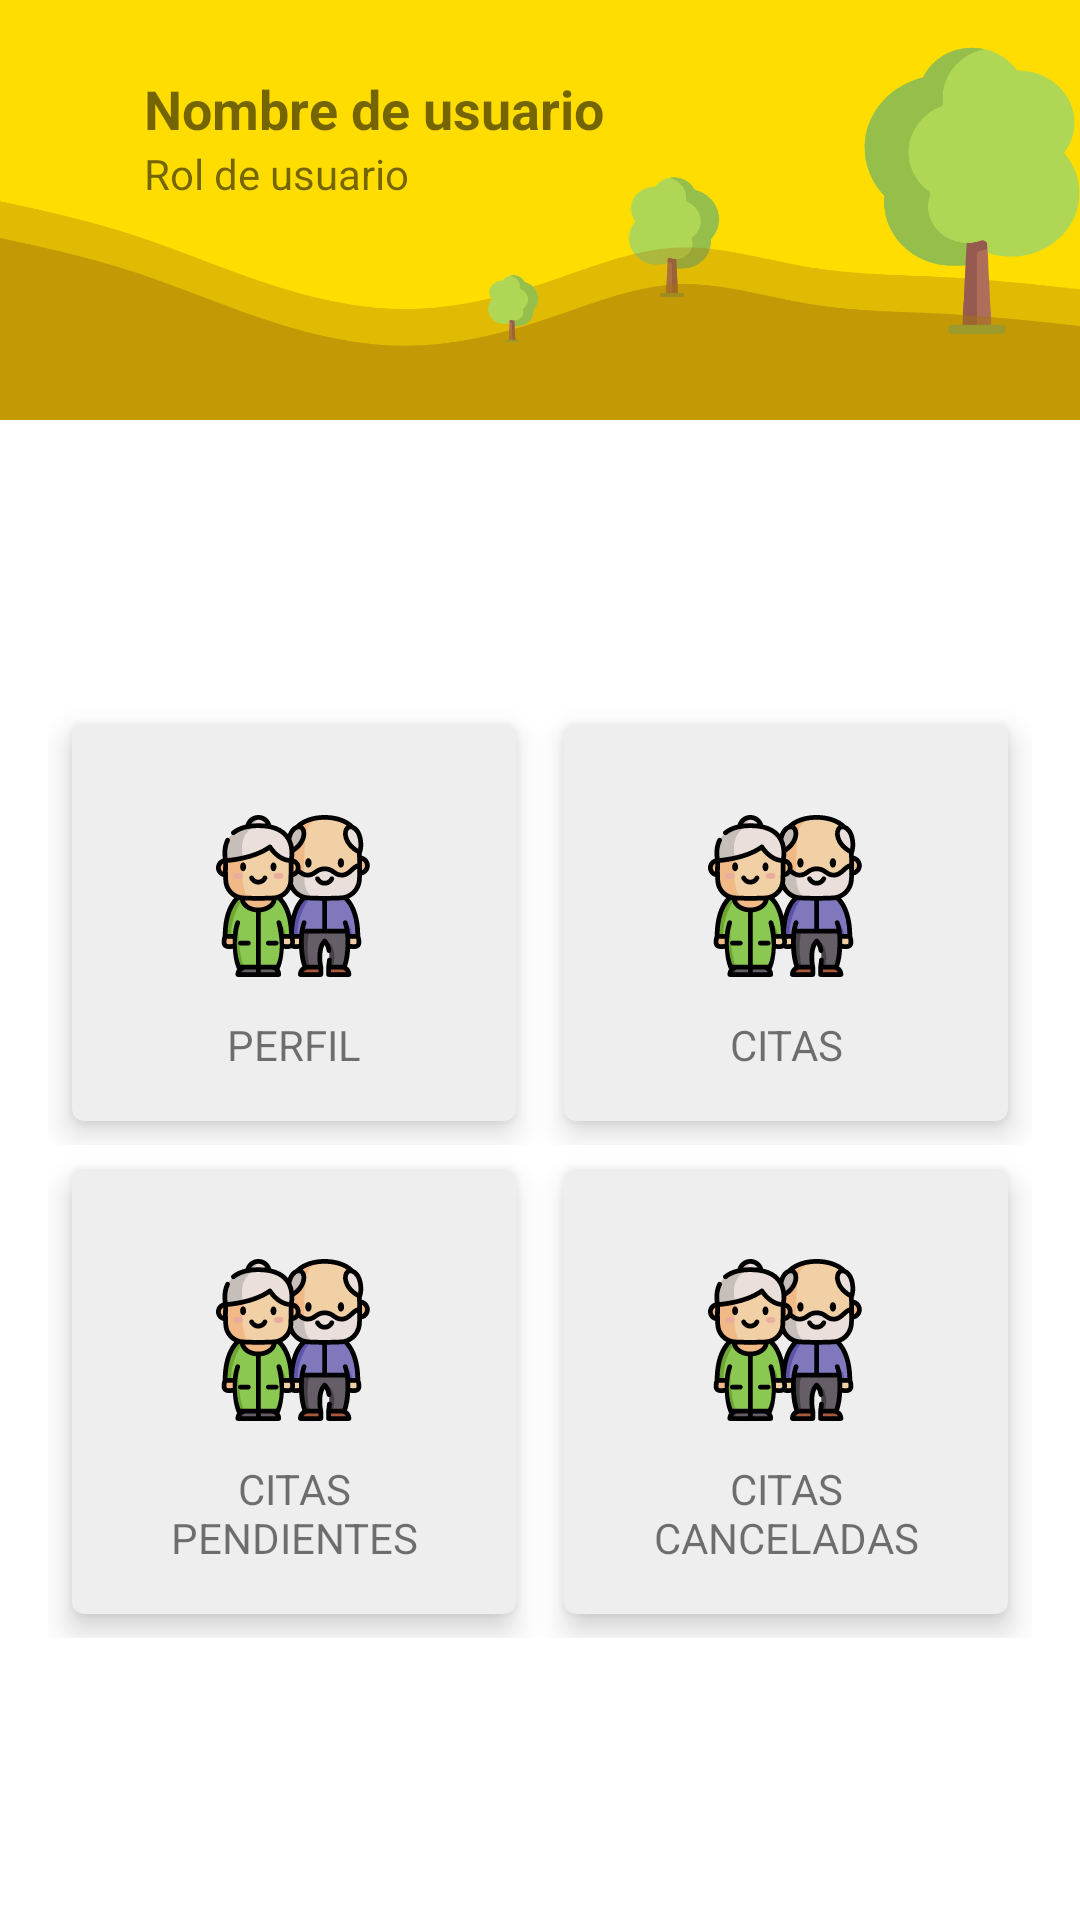

Screen size 1080px x 1920px. Icon name, then its center in pixels as (x=x, y=y):
granparents: (x=293, y=896), (x=785, y=896), (x=293, y=1340), (x=785, y=1340)
